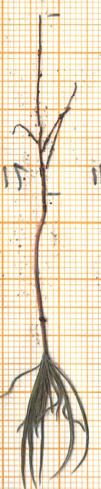flower: (0, 348, 101, 489)
root: (8, 13, 80, 188)
stem: (30, 193, 54, 353)
